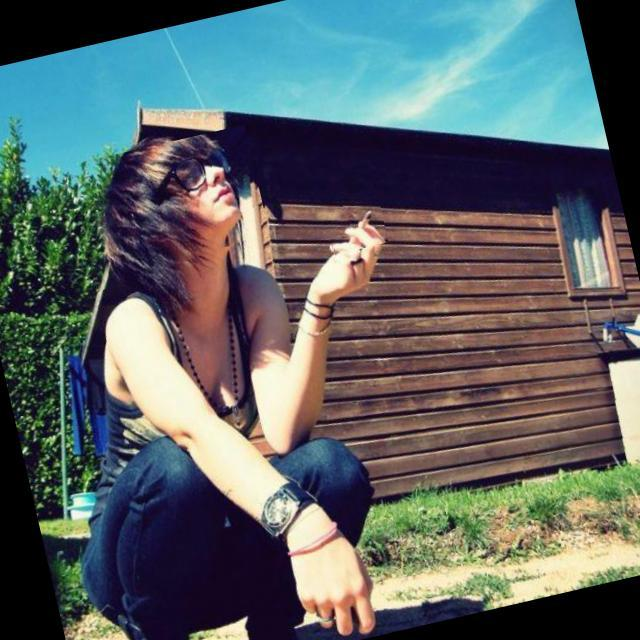cigarette: (320, 194, 388, 256)
